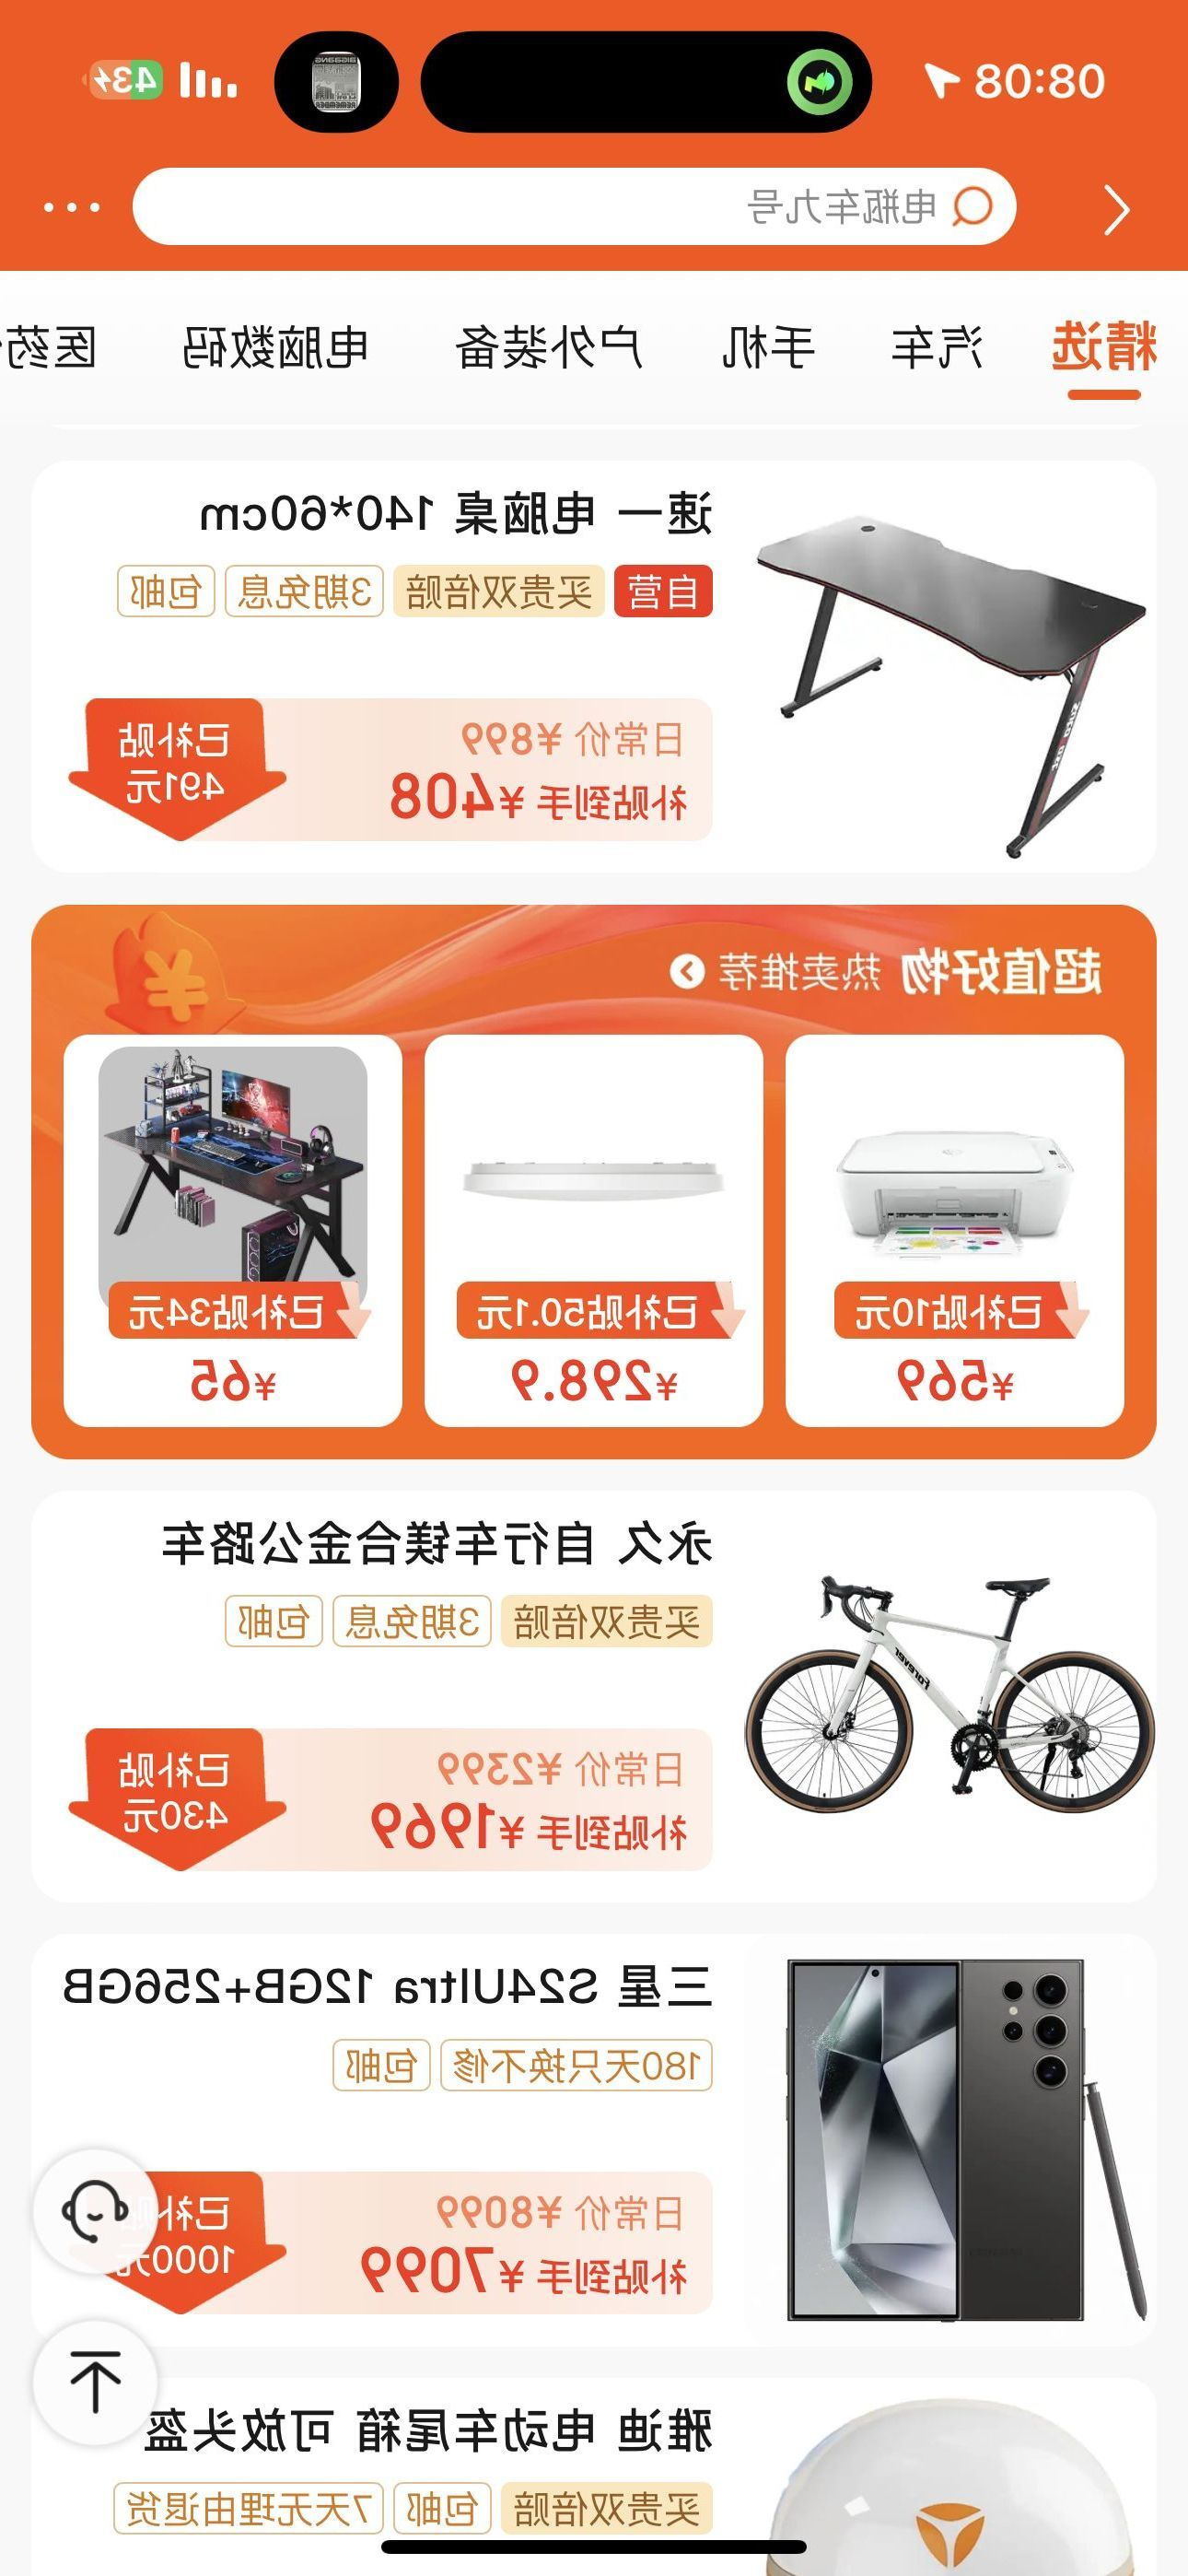banner: (33, 908, 1157, 1452)
item: (33, 1932, 1157, 2348), (33, 1495, 1158, 1909), (35, 460, 1157, 874)
op_bar: (18, 149, 1188, 260)
